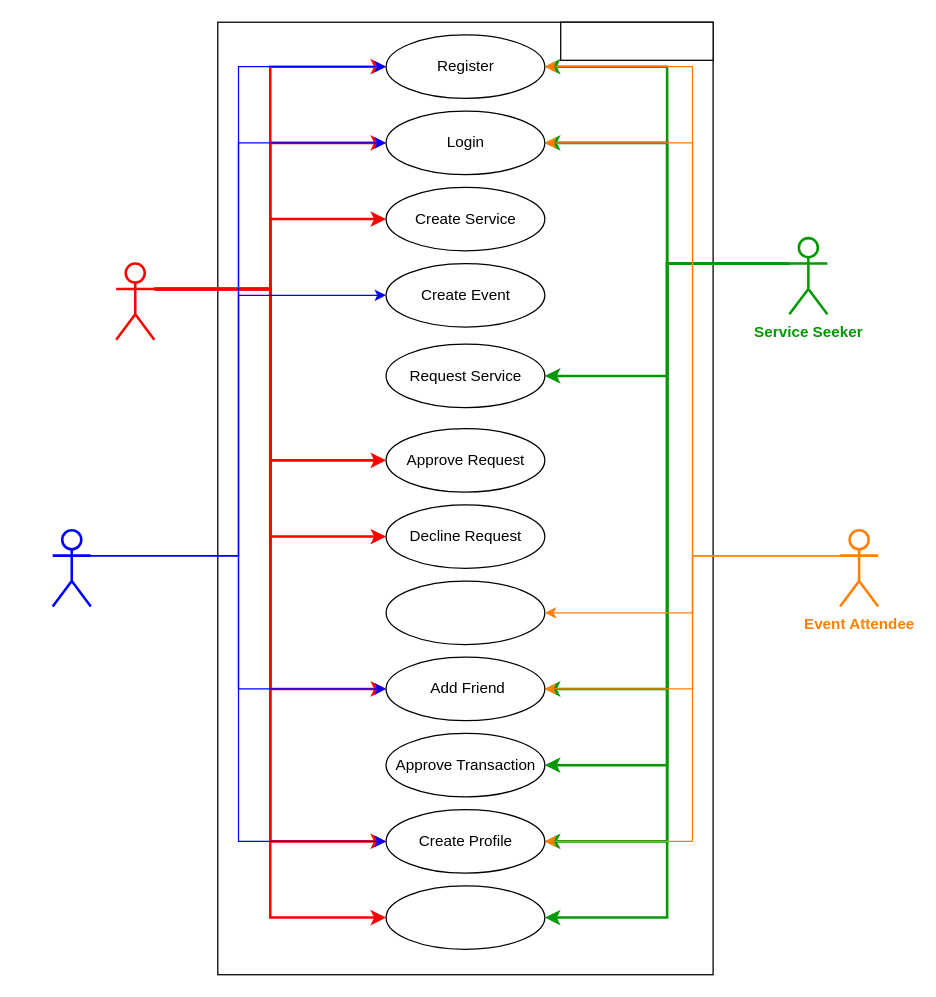
This 936x997 diagram has some shape labels left out. Each missing label, with the centre of its shape:
Attend Event: the point at 465,612
Check Balance: the point at 465,917
Event Creator: the point at 71,567
Service Pool App: the point at 636,40
Service Supplier: the point at 134,301
